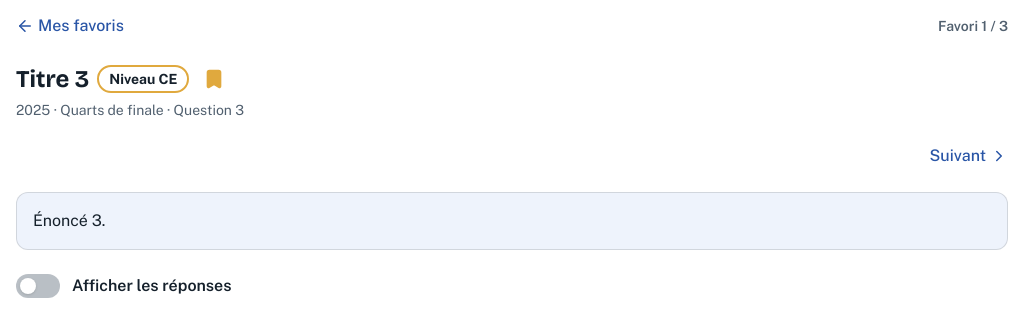
Test: ListQuestionPage (Story 4.5) › Previous / Next follow the list's order and are hidden at the bounds
Check: the text "Énoncé 3." is shown, box [33, 211, 105, 230]
Check: the link "Précédent" is not shown
Click the link "Suivant".
click(969, 156)  # box [930, 144, 1008, 168]
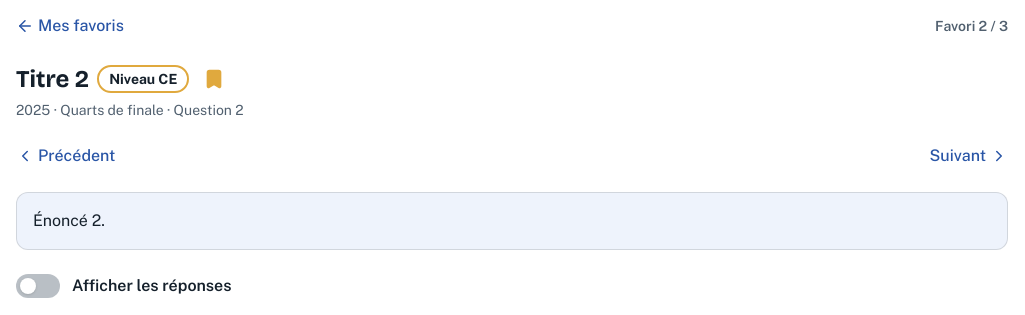
Check: the text "Énoncé 2." is shown, box [33, 211, 105, 230]
Click the link "Suivant".
click(969, 156)  # box [930, 144, 1008, 168]
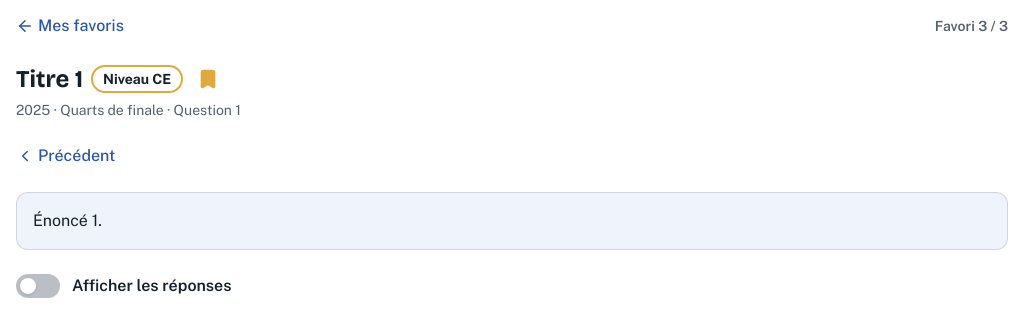
Check: the text "Énoncé 1." is shown, box [33, 211, 102, 230]
Check: the text "Favori 3 / 3" is shown, box [935, 16, 1008, 36]
Check: the link "Suivant" is gone
